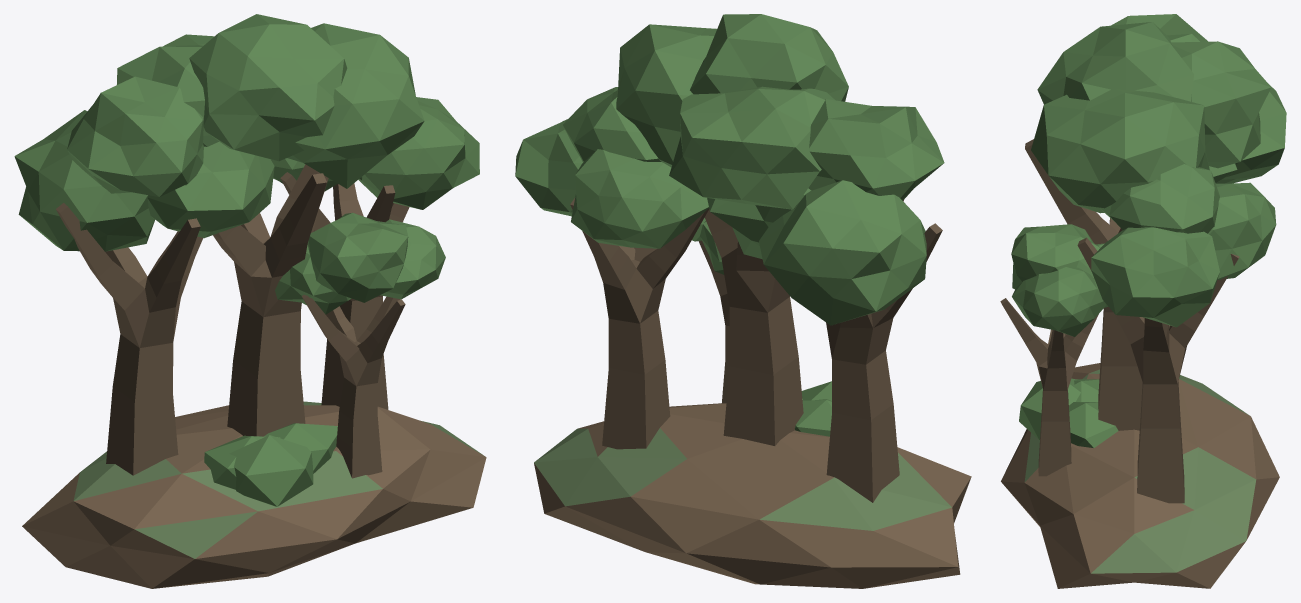
File: edge_treeline.glb
3 views of the same model, side by side, from view 1: azimuth 30°, elevation 25°; view 2: azimuth 150°, elevation 25°; view 3: azimuth 270°, elevation 25° (orthographic). The views are drawn at different scales.
Visible parts, largest first — view 1: edge_treeline; view 2: edge_treeline; view 3: edge_treeline.
Boxes of the visible parts, box(x1,y1,x2,y2) form: edge_treeline: box(14, 14, 486, 588); edge_treeline: box(515, 14, 971, 588); edge_treeline: box(1000, 14, 1286, 588).
Size of the model in its own units: 5.53 by 6.48 by 3.27.
